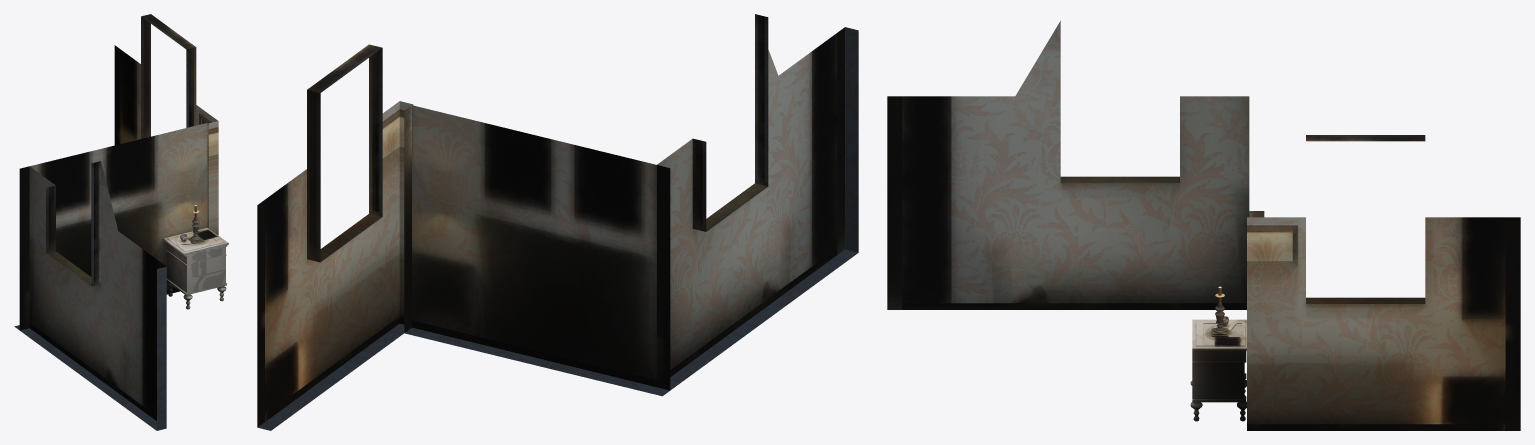
3 views of the same model, side by side, from view 1: azimuth 30°, elevation 25°; view 2: azimuth 150°, elevation 25°; view 3: azimuth 270°, elevation 25° (orthographic). The views are drawn at different scales.
Visible parts, largest first — view 1: qlgy61, qlgy16, qlgy17; view 2: qlgy61; view 3: qlgy61, qlgy16.
Part boxes in pixels (left/top/right/bottom): qlgy61: left=14, top=14, right=218, bottom=430; qlgy16: left=162, top=227, right=228, bottom=309; qlgy17: left=175, top=205, right=204, bottom=244; qlgy61: left=257, top=14, right=858, bottom=430; qlgy61: left=887, top=21, right=1520, bottom=430; qlgy16: left=1190, top=319, right=1246, bottom=421.
Size of the model in its own units: 2 by 2.12 by 4.2.
Materials: 3 (3 with a texture image).
